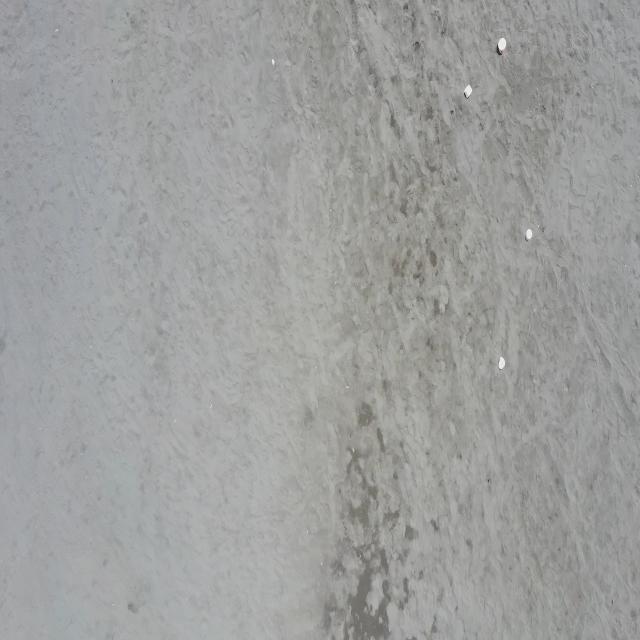take-away-containers: (498, 37, 507, 56), (464, 84, 473, 99), (525, 228, 533, 242), (498, 356, 506, 370)
